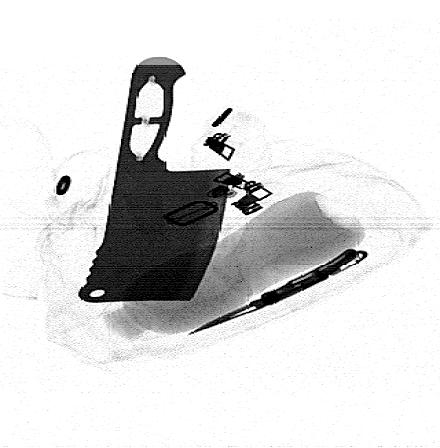Knife: (77, 56, 232, 303), (187, 248, 370, 335)
